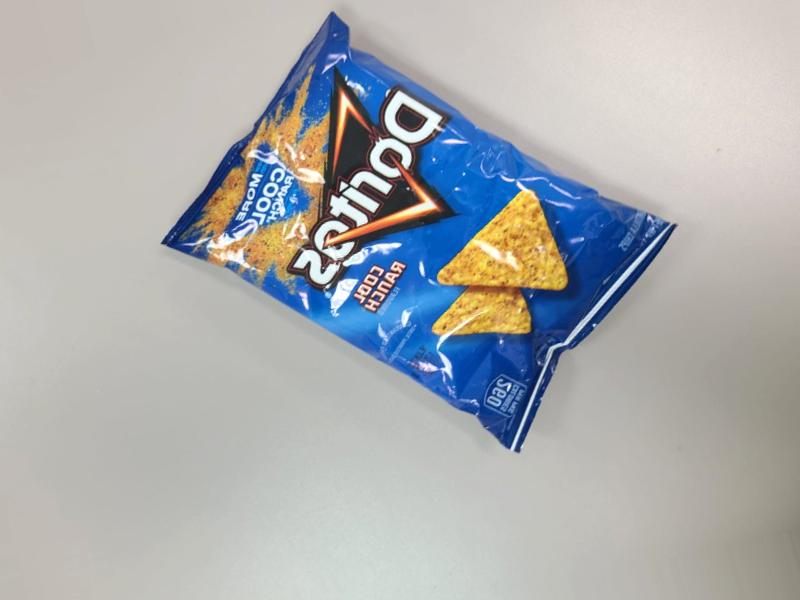doritos: (268, 29, 667, 529)
